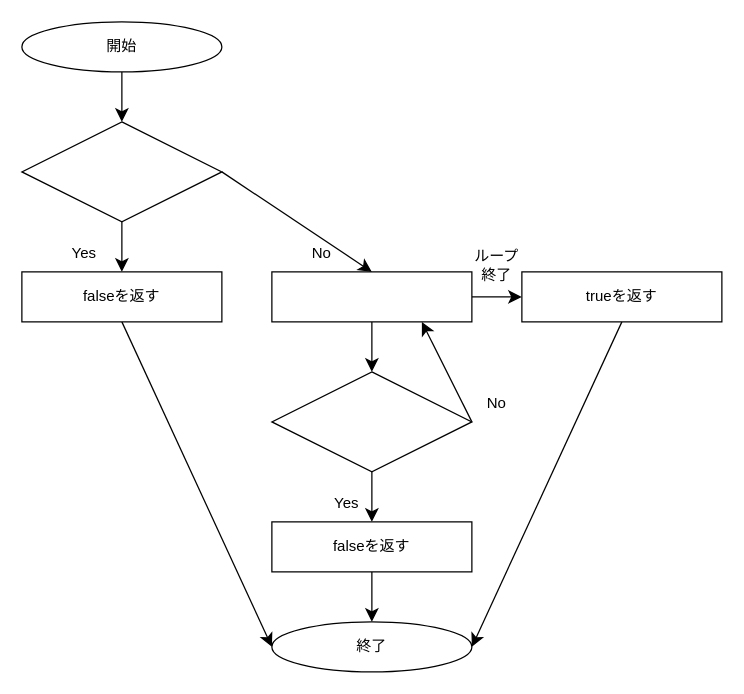
Some shapes in this 744 by 694 pixel diagram are drawn without their labels. The shapes that lost their labels are listed below. From the top down, each one's centre as x and y in pixels, then its label:
At pixel 121 171: "nが10未満か".
At pixel 371 296: "10回ループ (i=0から9)".
At pixel 371 421: "sign[n - 10 + i] == end[i]か".
